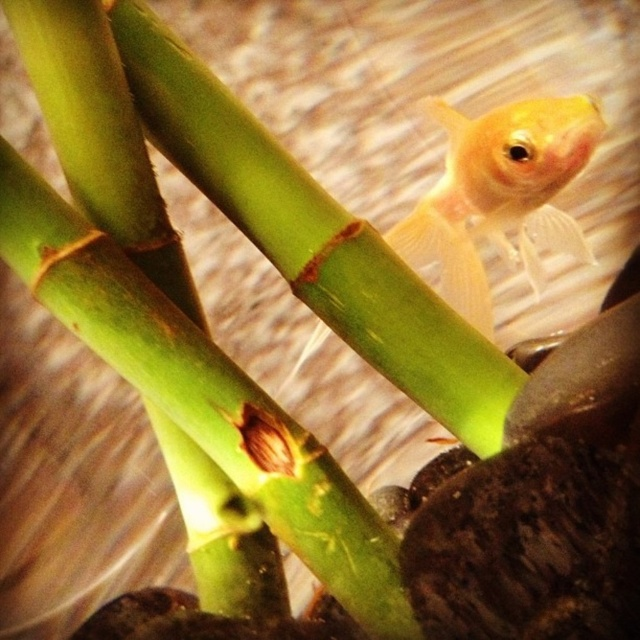Goldfish: (391, 90, 619, 321)
